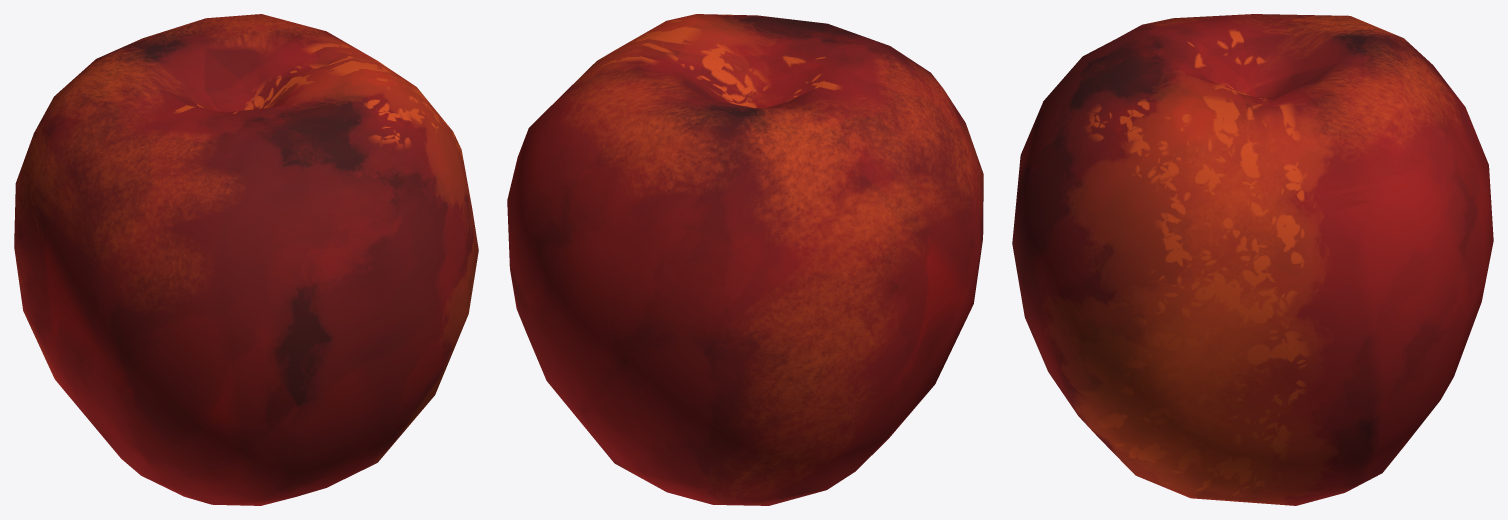
The model's file is apple.fbx.
3 renders of one model, left to right at view 1: azimuth 30°, elevation 25°; view 2: azimuth 150°, elevation 25°; view 3: azimuth 270°, elevation 25°, orthographic. The views are drawn at different scales.
Visible parts, largest first — view 1: NL_Apple; view 2: NL_Apple; view 3: NL_Apple.
Boxes of the visible parts, x1,y1,x2,y2 form: NL_Apple: (14,14,478,505); NL_Apple: (507,14,983,505); NL_Apple: (1012,14,1493,505).
Size of the model in its own units: 6.25 by 6.15 by 6.58.
